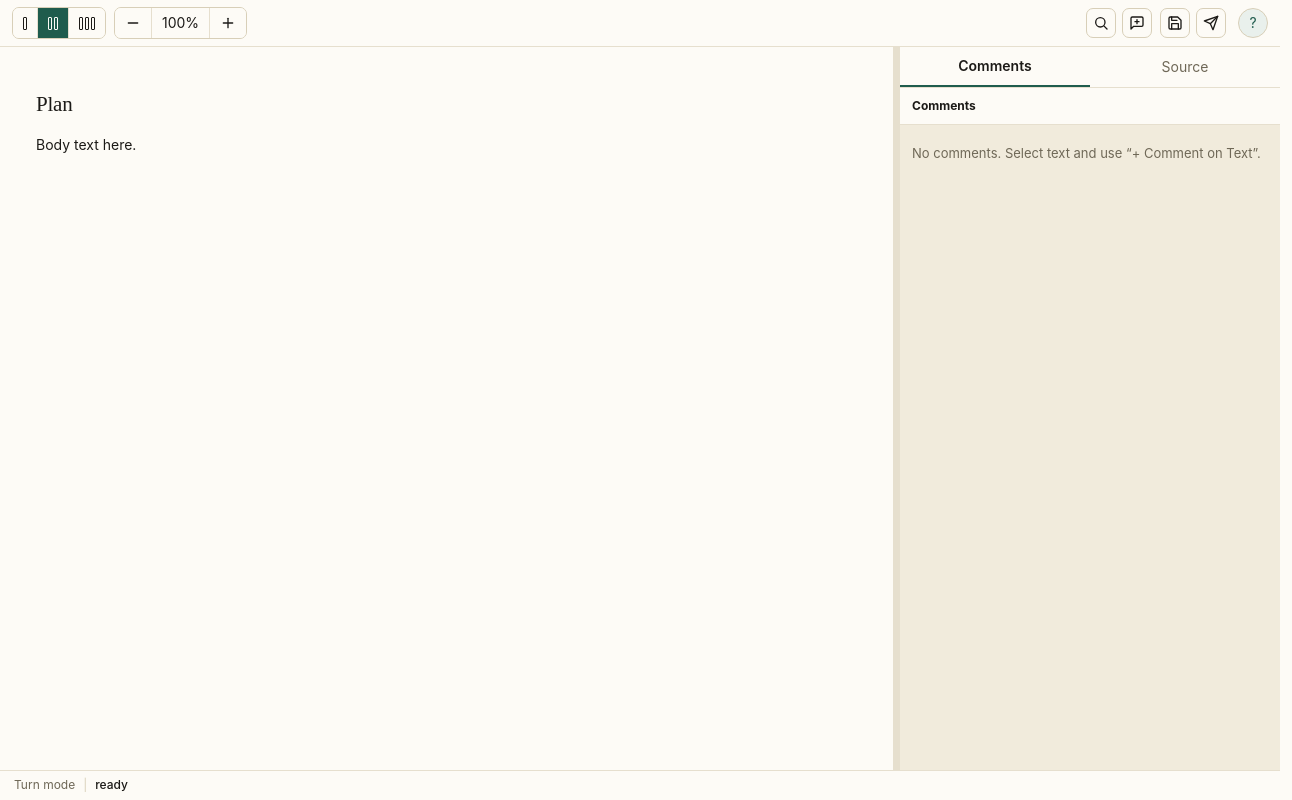
App panes / tabs / zoom (memory-backed) › 3-pane shows both source and comments at once (tabs disappear)
This screenshot has width=1292, height=800.
Click the button named "3 panes" at (87,23), box [69,8,105,38]
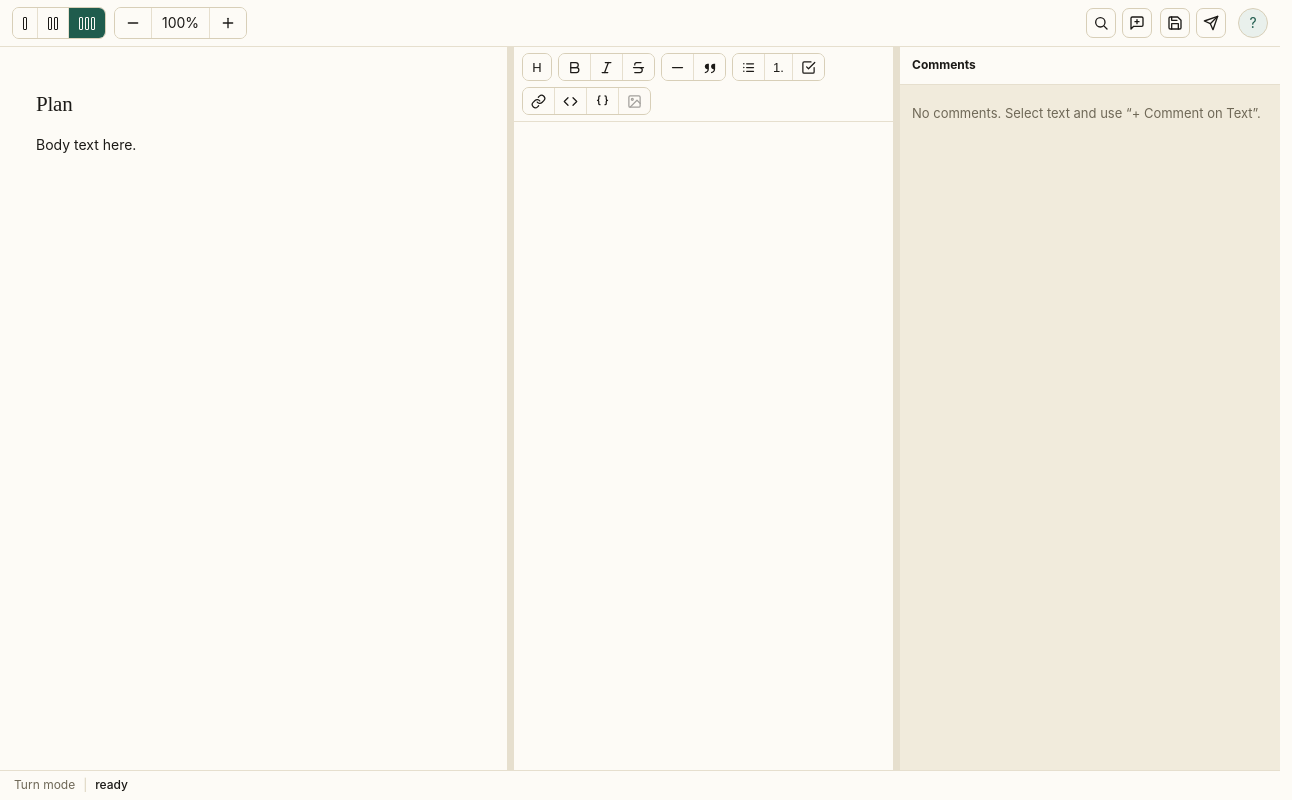
Expected: the text "No comments. Select text and use “+ Comment on Text”." is shown, [912,105,1261,121]
Expected: the button "Source" is gone
Expected: the number of elements with class "ap-pane" is 2, [514,47,894,770]; [900,47,1280,770]
